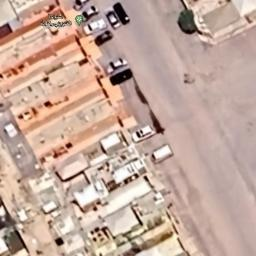SUV: (112, 0, 133, 22)
sedan: (126, 122, 161, 144), (150, 142, 174, 166), (102, 54, 130, 74), (82, 18, 106, 34), (104, 6, 120, 28), (80, 4, 104, 18)
